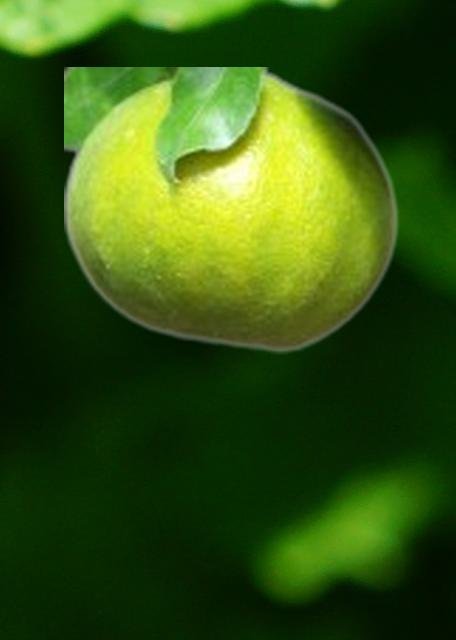dalandan: (64, 67, 399, 353)
